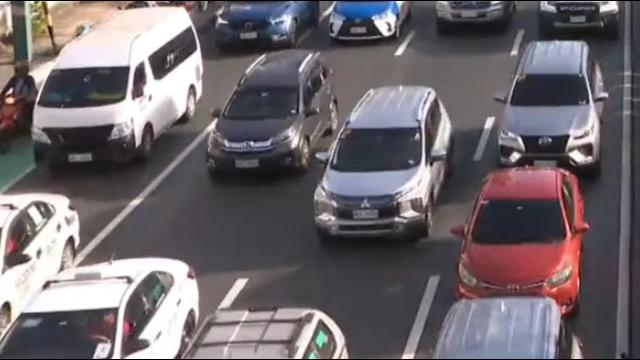car: (315, 88, 455, 238), (0, 257, 201, 360), (453, 169, 584, 318), (206, 52, 337, 174), (496, 42, 608, 171), (0, 193, 80, 332), (163, 307, 349, 360), (418, 302, 580, 360), (216, 0, 322, 44), (332, 0, 412, 42), (537, 0, 620, 39), (437, 1, 517, 34)
motorcycle: (0, 59, 44, 150)
van: (32, 7, 204, 172)
